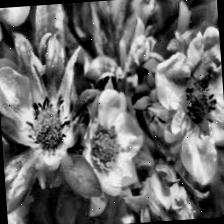Blossom Blight: (21, 91, 77, 158), (177, 69, 221, 138)
